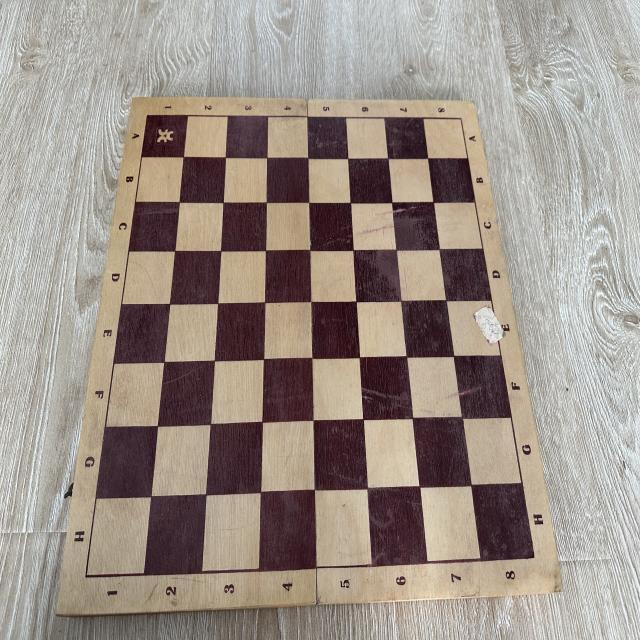chess-table-corners: (74, 564, 99, 588), (524, 544, 544, 570), (142, 107, 154, 122), (456, 110, 466, 126)
